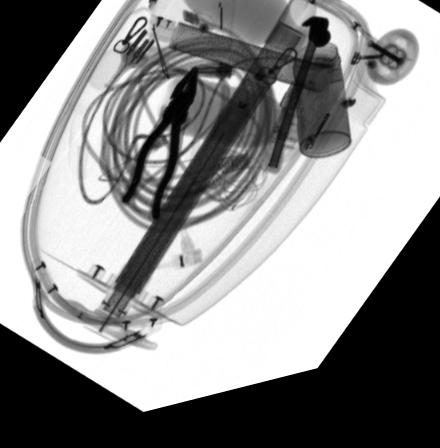Hammer: (263, 30, 332, 188)
Pliers: (118, 74, 199, 231)
